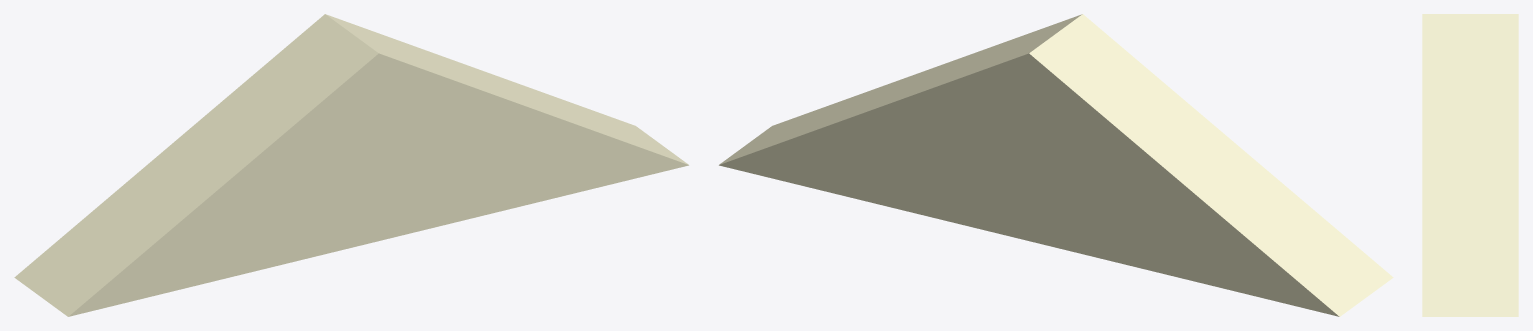
Rendered from Wall_Roof_30_Center.glb.
3 views of the same model, side by side, from view 1: azimuth 30°, elevation 25°; view 2: azimuth 150°, elevation 25°; view 3: azimuth 270°, elevation 25° (orthographic). The views are drawn at different scales.
Visible parts, largest first — view 1: Wall Roof 30 Center; view 2: Wall Roof 30 Center; view 3: Wall Roof 30 Center.
Boxes of the visible parts, x1,y1,x2,y2 form: Wall Roof 30 Center: (14,14,688,316); Wall Roof 30 Center: (719,14,1393,316); Wall Roof 30 Center: (1422,14,1518,316).
Bounding box in the file's own units: 2 × 0.5774 × 0.3.
